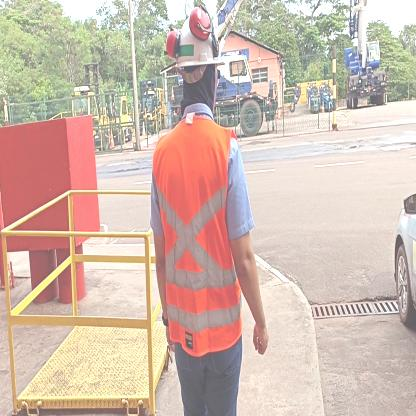Balaclava: (181, 69, 218, 112)
Capacete: (168, 13, 225, 67)
colete: (157, 130, 239, 343)
